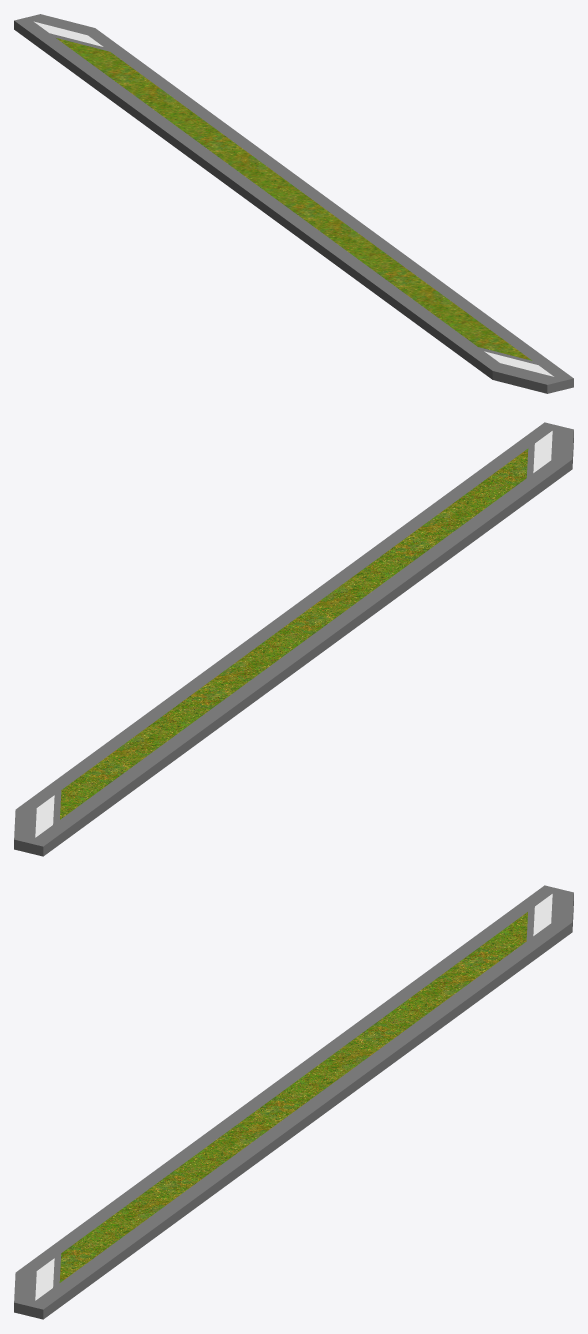
The model's file is W_O_Playground_Glassbed_001_L2.fbx.
3 renders of one model, top to bottom at view 1: azimuth 30°, elevation 25°; view 2: azimuth 150°, elevation 25°; view 3: azimuth 330°, elevation 25°, orthographic. The views are drawn at different scales.
Visible parts, largest first — view 1: W_O_Playground_Glassbed_001_L2; view 2: W_O_Playground_Glassbed_001_L2; view 3: W_O_Playground_Glassbed_001_L2.
Boxes of the visible parts, x1,y1,x2,y2 form: W_O_Playground_Glassbed_001_L2: (14, 14, 573, 393); W_O_Playground_Glassbed_001_L2: (14, 422, 573, 856); W_O_Playground_Glassbed_001_L2: (14, 885, 573, 1319).
Size of the model in its own units: 0.4829 by 0.08 by 7.94.
